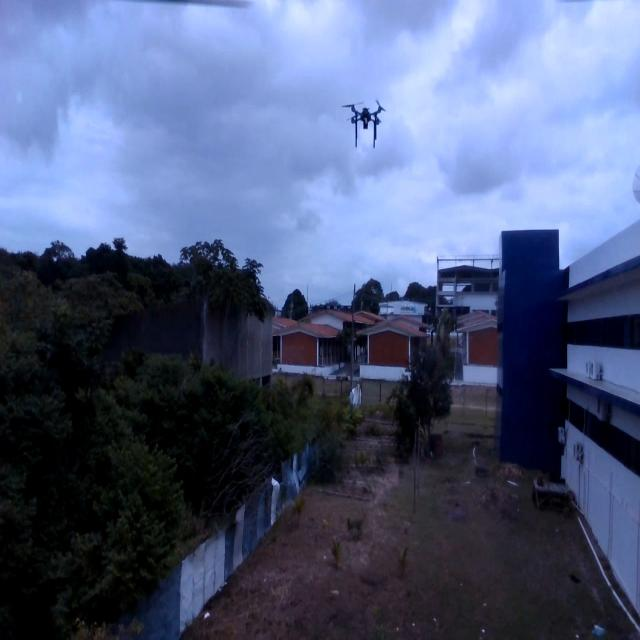-uav-: (333, 86, 394, 172)
